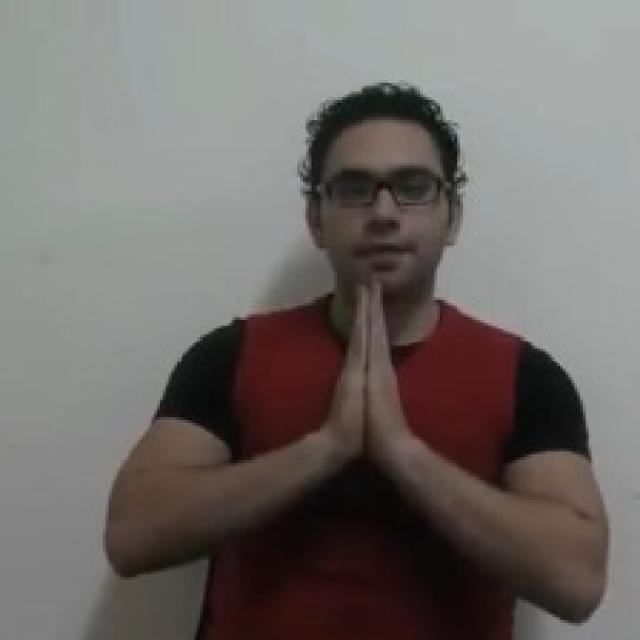sorry: (320, 275, 408, 462)
